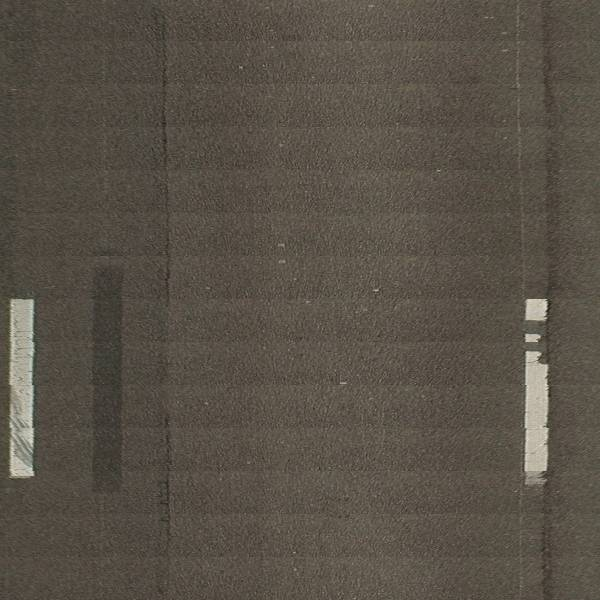road_damage: (154, 60, 174, 309), (160, 414, 180, 543)
